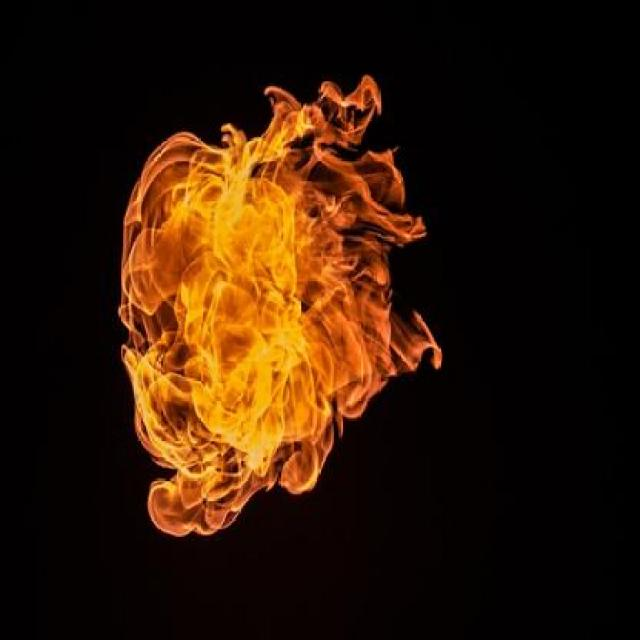fire: (83, 63, 449, 532)
